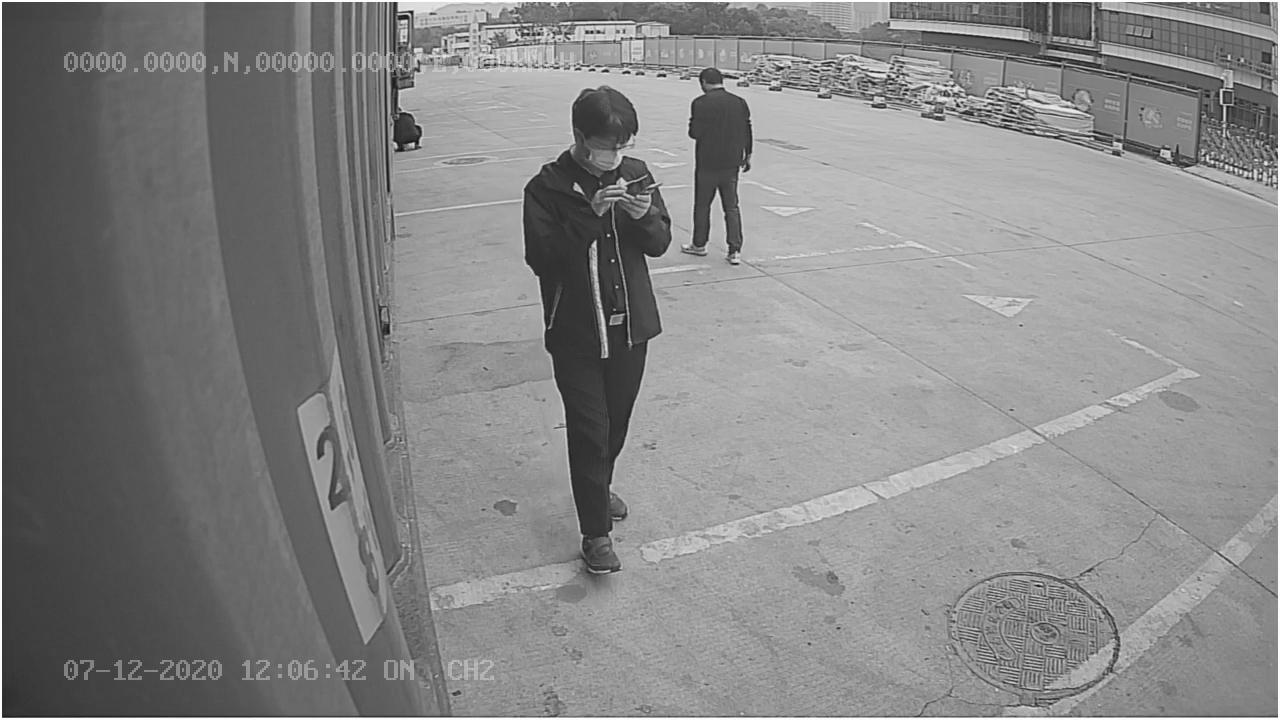person: (513, 82, 670, 581)
